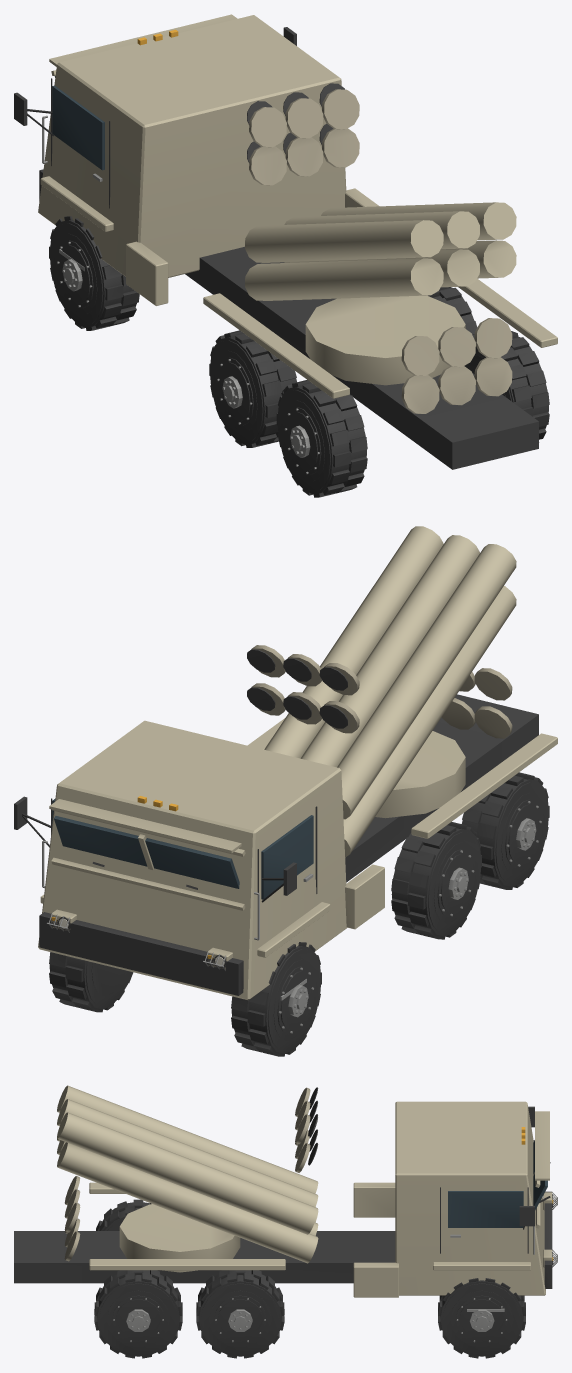
File: usa_aa_nasams.glb
3 renders of one model, top to bottom at view 1: azimuth 30°, elevation 25°; view 2: azimuth 150°, elevation 25°; view 3: azimuth 270°, elevation 25°, orthographic. The views are drawn at different scales.
Visible parts, largest first — view 1: body, barrel, turret, wheel_4, wheel_2, wheel_0, wheel_5, wheel_3; view 2: body, barrel, wheel_2, wheel_4, wheel_0, turret, wheel_1; view 3: body, barrel, wheel_3, wheel_5, wheel_1, turret, wheel_4.
Boxes of the visible parts, <box> form: body: <box>14,14,557,469</box>; barrel: <box>245,83,516,413</box>; turret: <box>305,295,465,385</box>; wheel_4: <box>276,377,367,497</box>; wheel_2: <box>209,330,296,447</box>; wheel_0: <box>49,216,139,330</box>; wheel_5: <box>464,331,549,442</box>; wheel_3: <box>428,287,477,338</box>; body: <box>14,694,557,1000</box>; barrel: <box>247,526,516,857</box>; wheel_2: <box>391,819,481,939</box>; wheel_4: <box>462,770,549,889</box>; wheel_0: <box>231,942,321,1056</box>; turret: <box>375,731,465,818</box>; wheel_1: <box>49,952,133,1012</box>; body: <box>14,1101,557,1311</box>; barrel: <box>57,1085,318,1263</box>; wheel_3: <box>196,1270,284,1358</box>; wheel_5: <box>94,1270,182,1358</box>; wheel_1: <box>438,1278,525,1358</box>; turret: <box>119,1204,240,1272</box>; wheel_4: <box>96,1199,151,1230</box>.
Bounding box in the file's own units: 3.15 × 3.2 × 7.21.
